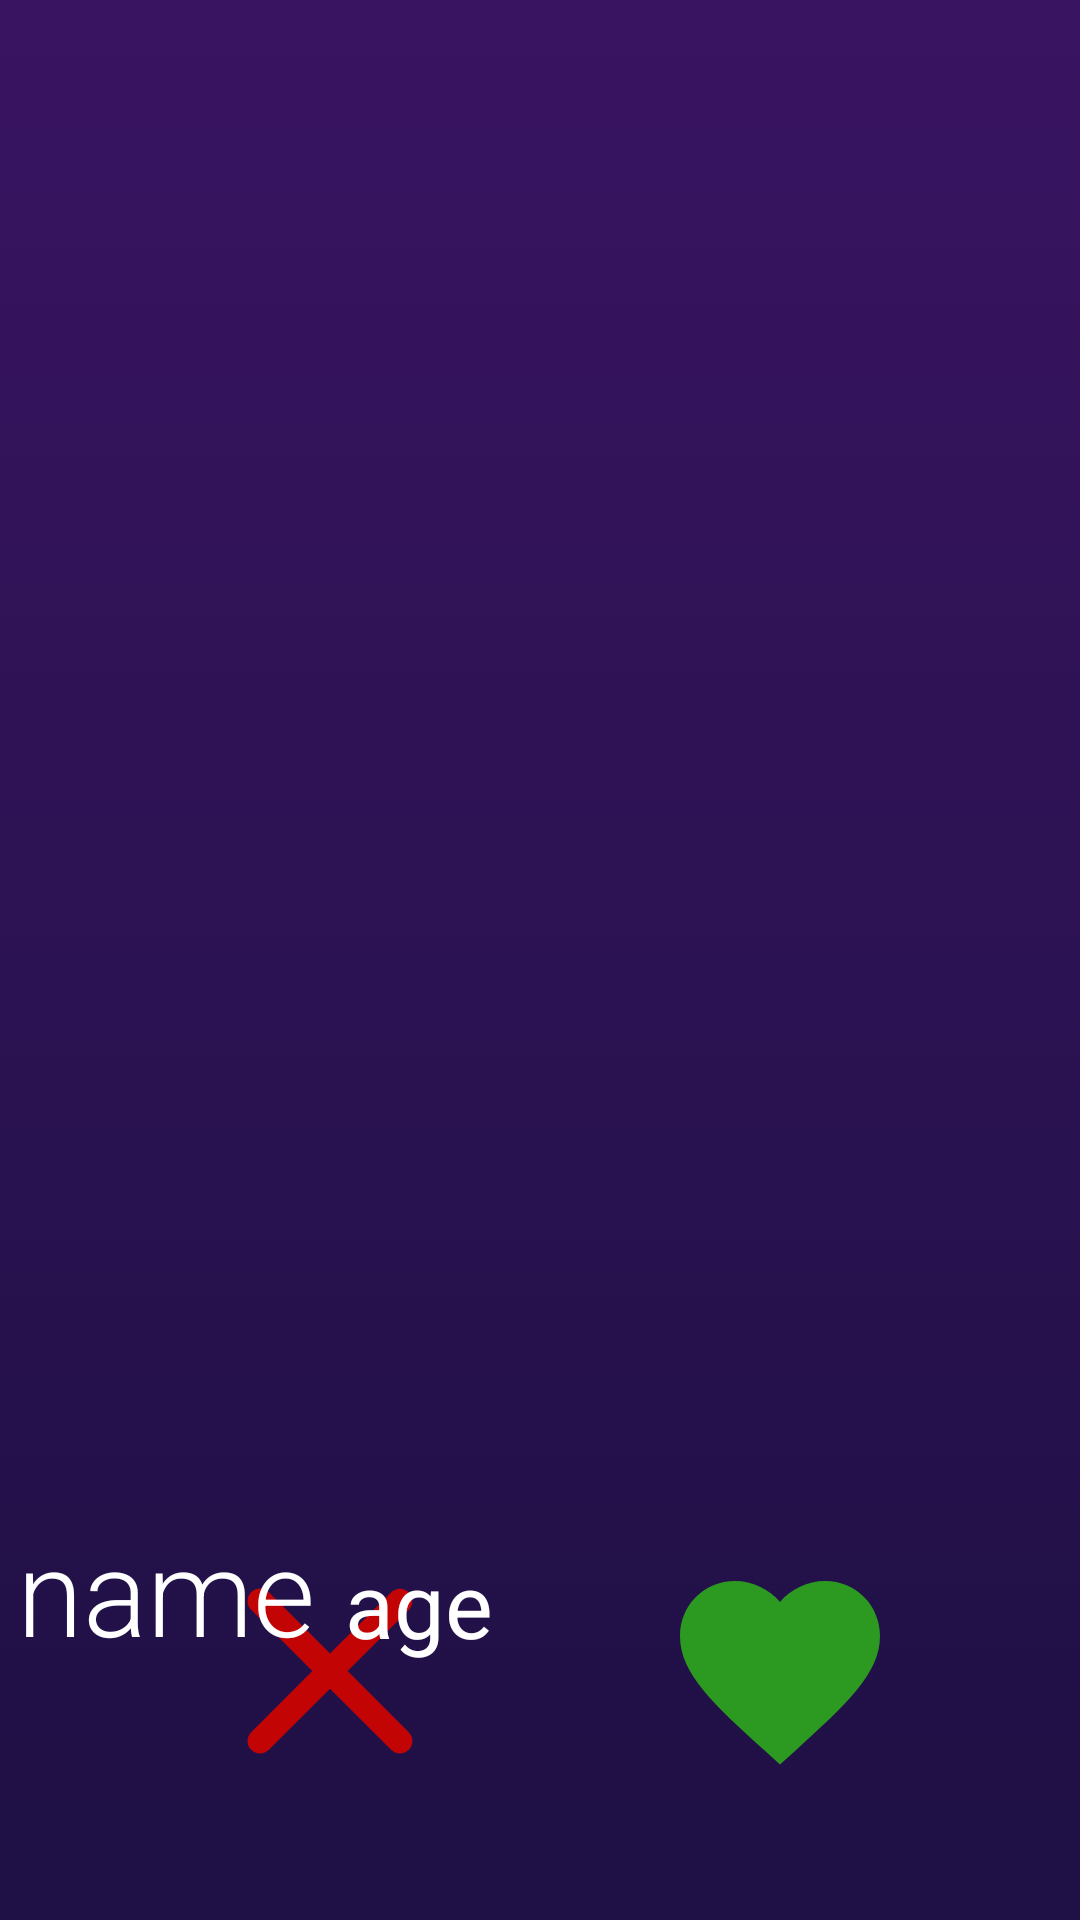

Where to tap for icons on this 1080 × 1920 app screen, as [x,y]:
favorite: [780,1672]
